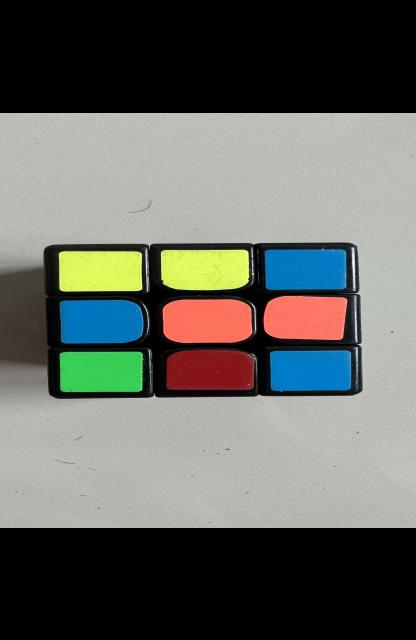Blue: (60, 299, 143, 343), (270, 349, 351, 390), (265, 248, 346, 289)
Green: (60, 351, 143, 392)
Orange: (163, 298, 253, 342), (263, 295, 348, 339)
Red: (166, 348, 255, 389)
Yellow: (161, 248, 250, 289), (58, 250, 143, 291)
